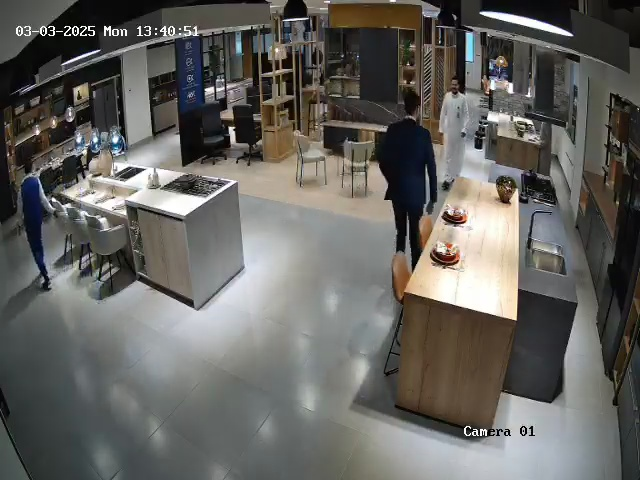employee: (378, 93, 438, 271), (16, 164, 58, 281)
male: (438, 75, 471, 191), (530, 117, 561, 184)
